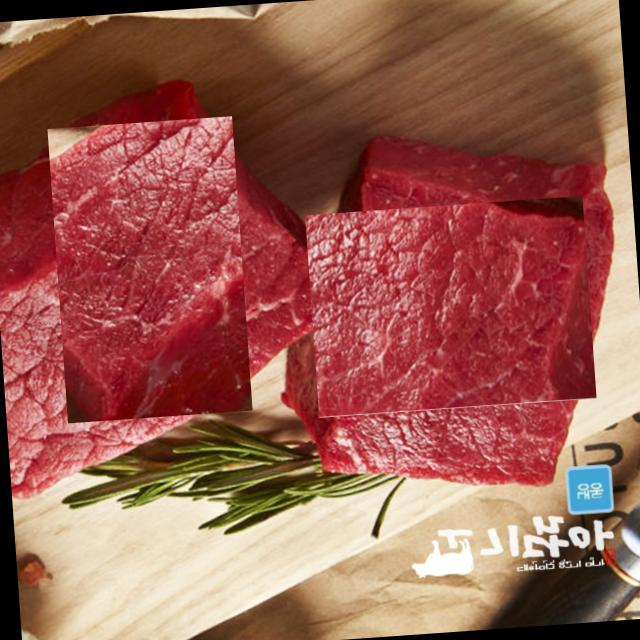beef: (322, 178, 580, 434), (46, 116, 252, 424)
